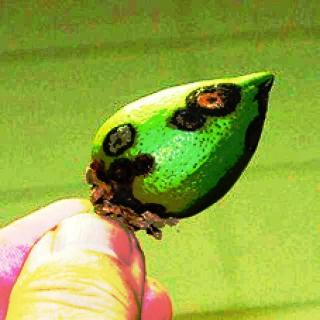blight: (170, 84, 240, 130), (105, 124, 154, 178), (246, 83, 270, 148)
